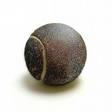tennis ball: (22, 19, 92, 89)
